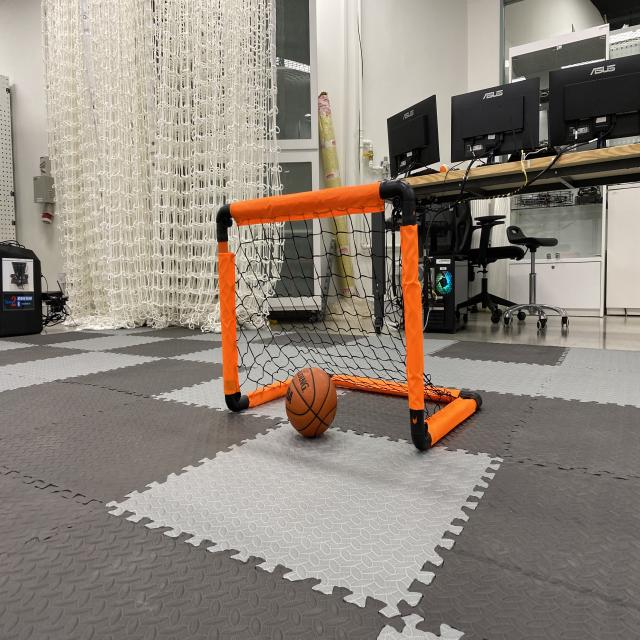ball: (281, 359, 342, 445)
gate: (210, 175, 486, 459)
